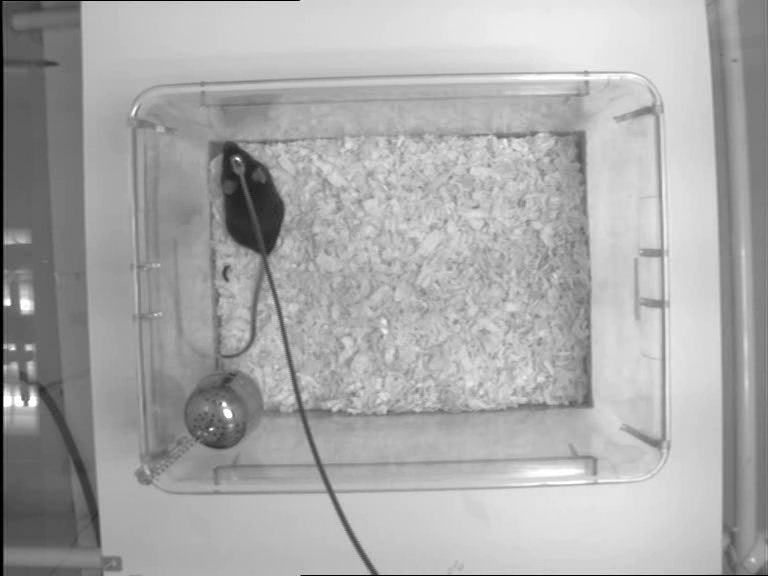mice: (217, 135, 287, 363)
